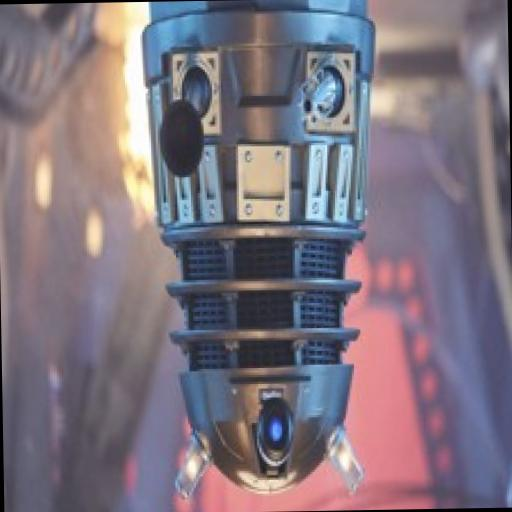dalek: (127, 0, 398, 501)
